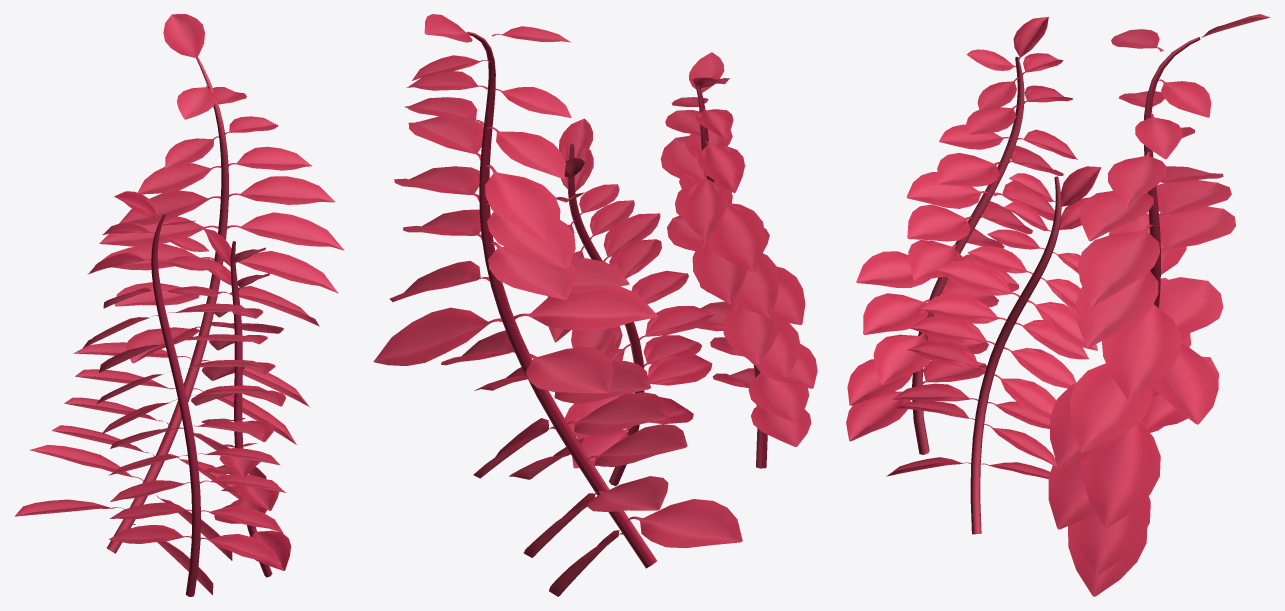
File: Plants_9.fbx
3 renders of one model, left to right at view 1: azimuth 30°, elevation 25°; view 2: azimuth 150°, elevation 25°; view 3: azimuth 270°, elevation 25°, orthographic. The views are drawn at different scales.
Visible parts, largest first — view 1: Plane.001; view 2: Plane.001; view 3: Plane.001.
Part boxes in pixels (box(x1,y1,x2,y2)): Plane.001: box(15, 14, 343, 596); Plane.001: box(373, 14, 817, 596); Plane.001: box(846, 14, 1270, 596).
Size of the model in its own units: 1.47 by 2.39 by 1.52.
1 material, 1 textured.
